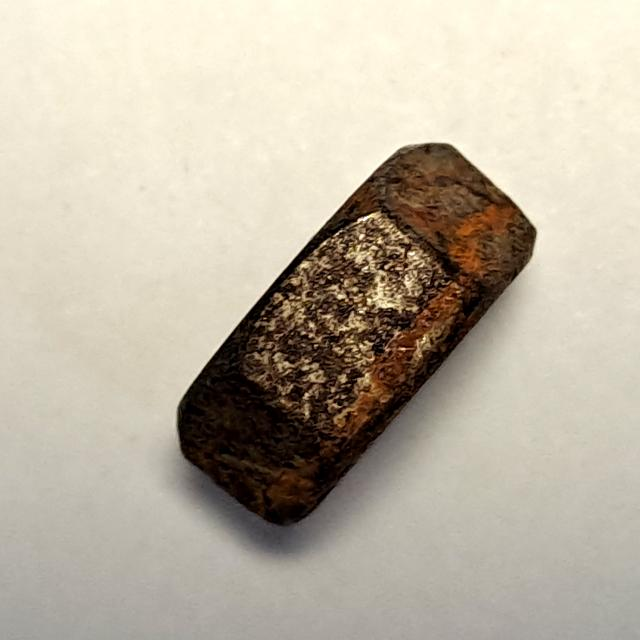Side_Rust: (160, 128, 548, 539)
